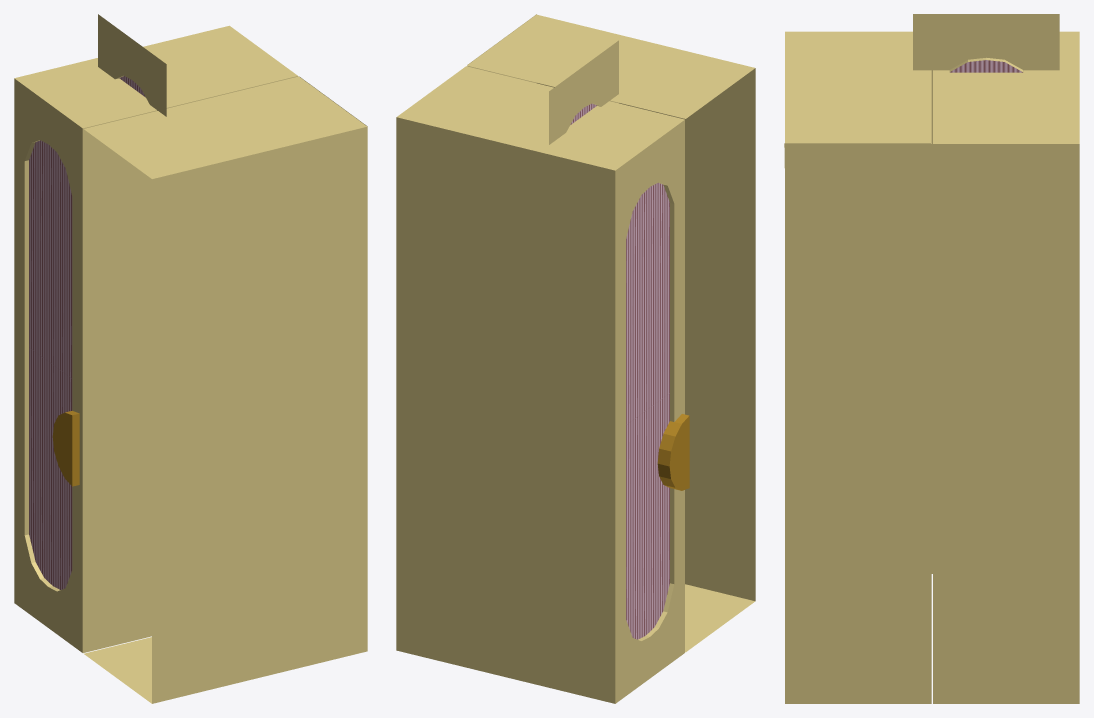
The model's file is Game_Wardrobe.glb.
3 renders of one model, left to right at view 1: azimuth 30°, elevation 25°; view 2: azimuth 150°, elevation 25°; view 3: azimuth 270°, elevation 25°, orthographic. The views are drawn at different scales.
Parts seen in each view (by area): view 1: Cube.001, Cube, Cube.003; view 2: Cube, Cube.001, Cube.003; view 3: Cube.001, Cube, Cube.003.
Part boxes in pixels (<box>): Cube.001: <box>84,76,367,703</box>; Cube: <box>14,25,298,652</box>; Cube.003: <box>98,14,166,116</box>; Cube: <box>396,66,689,703</box>; Cube.001: <box>467,14,755,652</box>; Cube.003: <box>549,40,618,144</box>; Cube.001: <box>784,31,931,703</box>; Cube: <box>933,31,1079,703</box>; Cube.003: <box>913,14,1059,573</box>.
Bounding box in the file's own units: 2.07 × 5.12 × 2.22.
Materials: 3 (1 with a texture image).
